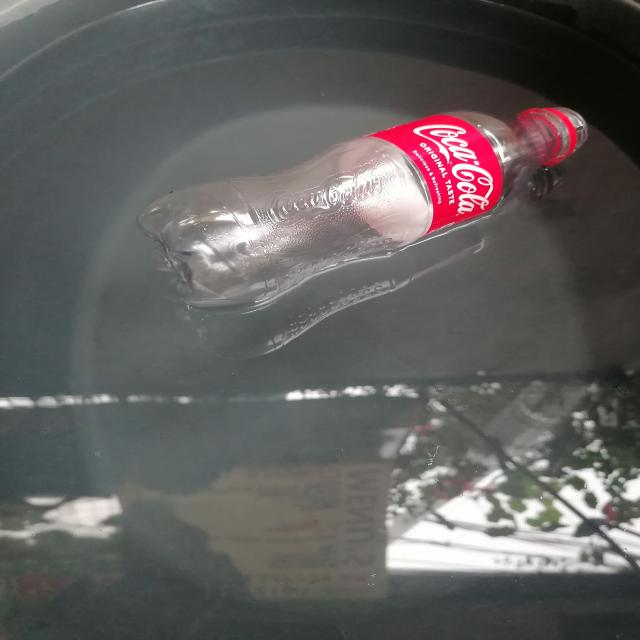Plastic Bottle: (113, 86, 614, 326)
